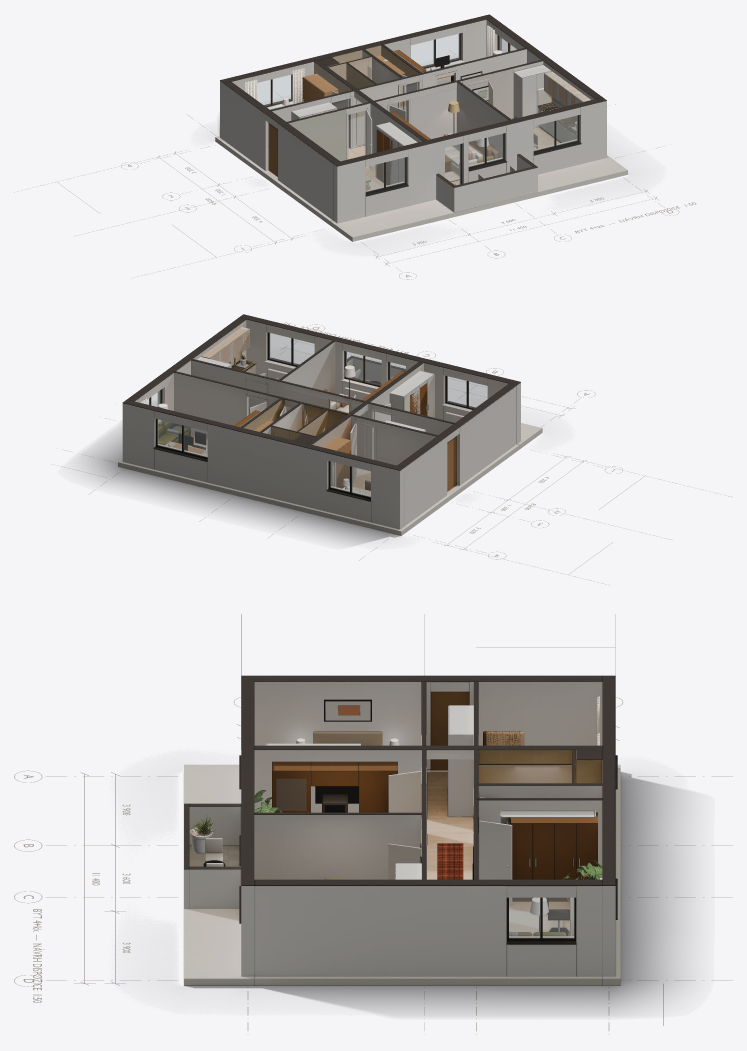
Rendered from apartment.glb.
3 views of the same model, one above another, from view 1: azimuth 30°, elevation 25°; view 2: azimuth 150°, elevation 25°; view 3: azimuth 270°, elevation 25° (orthographic). The views are drawn at different scales.
Visible parts, largest first — view 1: Shell, After, Before, Glass_Shell, Underlay; view 2: Shell, After, Before, Shadow, Glass_Shell, Underlay; view 3: Shell, Before, Shadow, After, Underlay, Glass_Shell, Props_After, Glass_Before.
Part boxes in pixels (x1,y1,x2,y2): Shell: (215,14,627,241); After: (245,25,588,190); Before: (246,49,590,185); Glass_Shell: (257,34,577,191); Underlay: (14,50,696,279); Shell: (118,314,542,535); After: (140,328,434,495); Before: (158,327,428,494); Shadow: (85,429,400,543); Glass_Shell: (147,333,487,496); Underlay: (51,322,732,585); Shell: (184,675,620,985); Before: (254,705,602,936); Shadow: (185,772,681,1012); After: (203,682,602,936); Underlay: (14,614,732,1034); Glass_Shell: (509,898,573,937); Props_After: (189,790,602,902); Glass_Before: (276,779,306,809).
Size of the model in its own units: 23 by 2.5 by 16.53.
12 materials, 10 textured.
